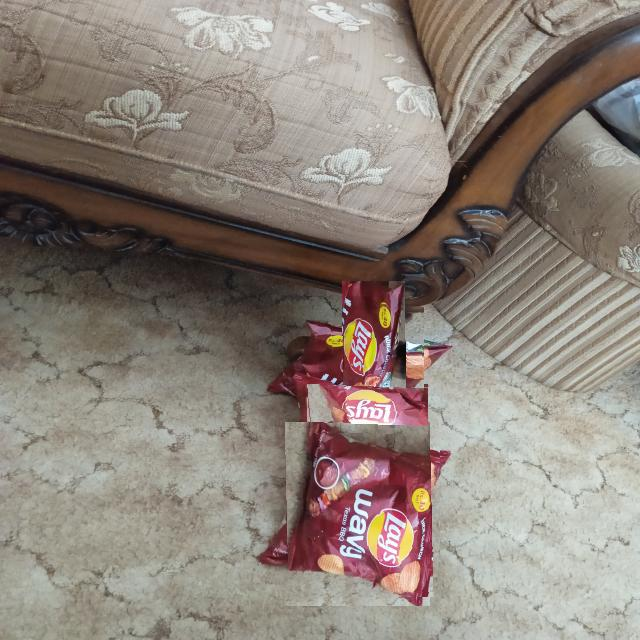Plastic: (274, 432, 440, 597), (323, 300, 424, 402), (306, 383, 428, 442)
